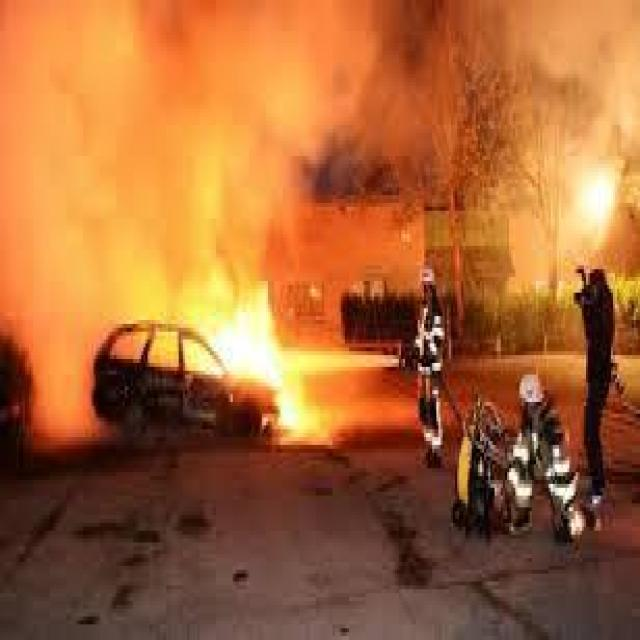fire: (192, 279, 339, 456)
other: (576, 152, 621, 229), (454, 432, 474, 514)
smoke: (0, 0, 208, 394)
